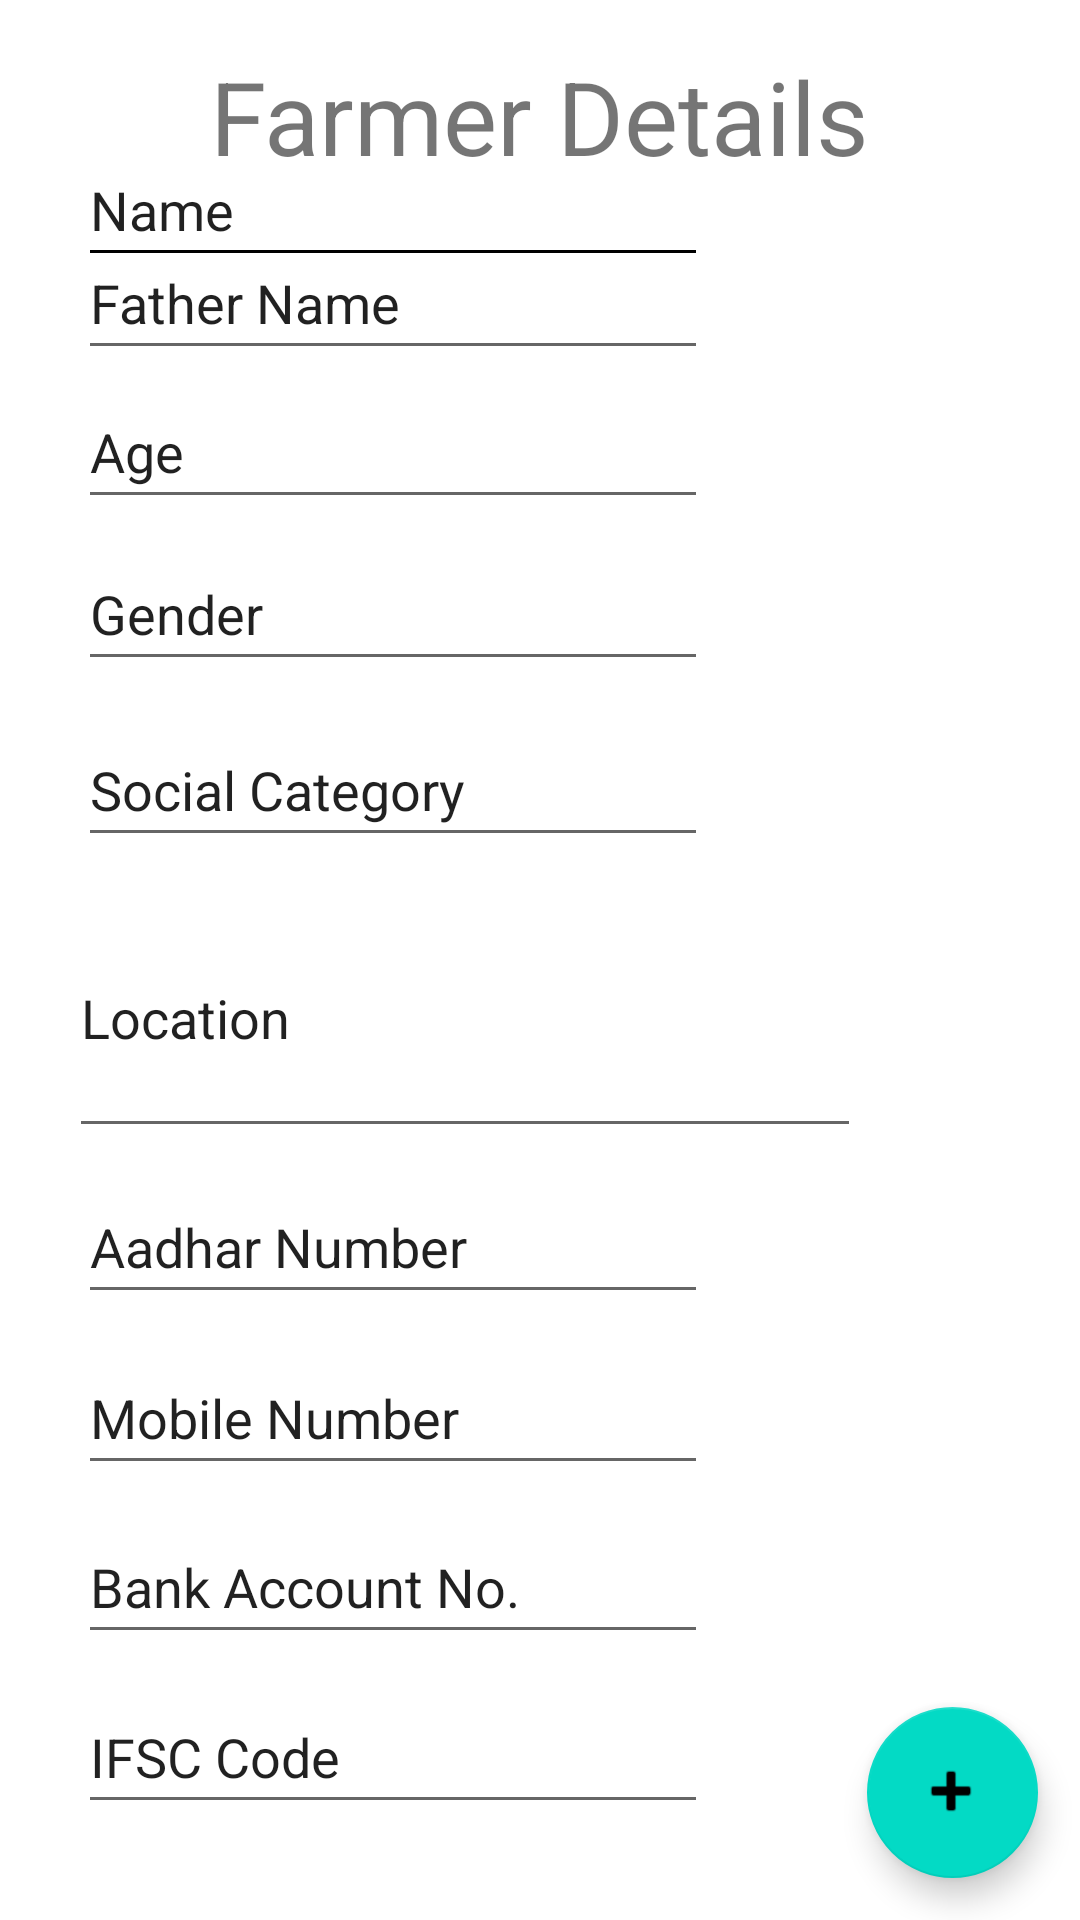

Named icons in this screenshot (1080*1920) and their centers, (x,y):
add: (952,1792)
